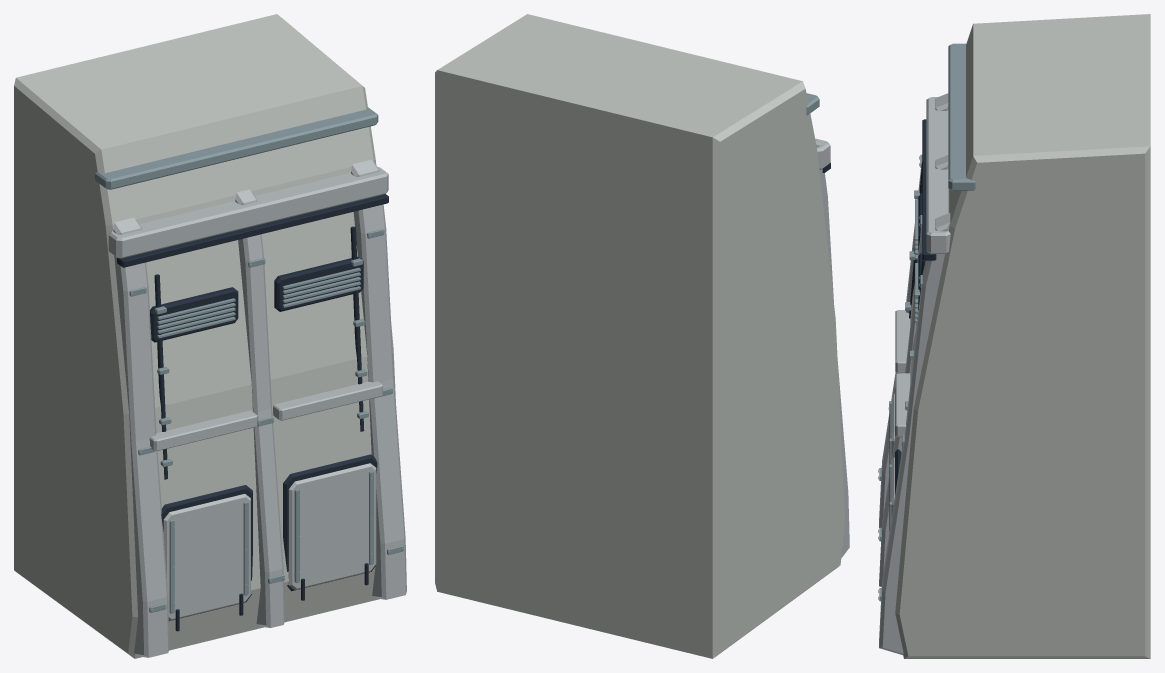
The model's file is fortification_facade.glb.
The picture shows the model from 3 angles, left to right: view 1: azimuth 30°, elevation 25°; view 2: azimuth 150°, elevation 25°; view 3: azimuth 270°, elevation 25°; orthographic projection. The views are drawn at different scales.
Visible parts, largest first — view 1: fortification_facade; view 2: fortification_facade; view 3: fortification_facade.
Boxes of the visible parts, x1,y1,x2,y2 form: fortification_facade: [14, 14, 406, 658]; fortification_facade: [435, 14, 849, 658]; fortification_facade: [878, 14, 1150, 658].
Size of the model in its own units: 6.7 by 11.61 by 5.58.
